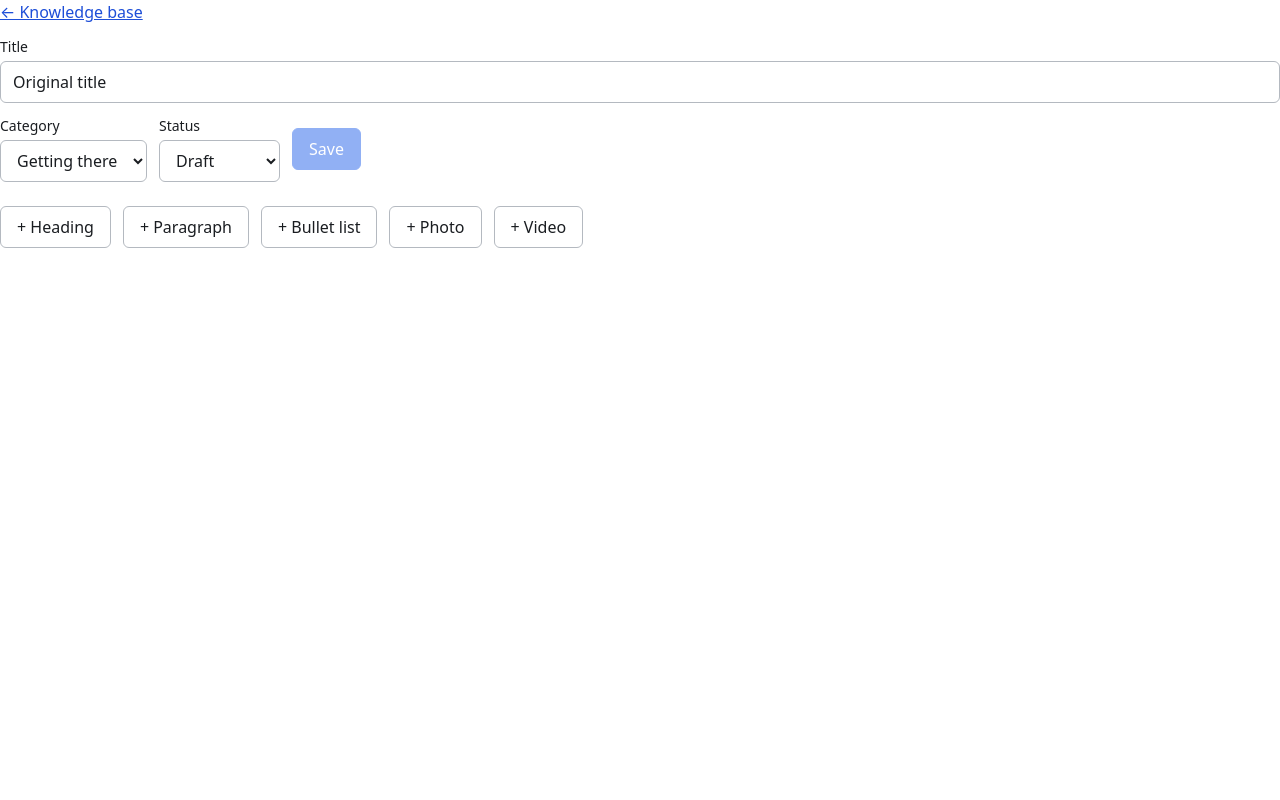
Test: ArticleEditorPage — stale article conflict (409) › Reload discards local edits and refetches the article
Type " (edited)" into the field labelled "Title" at coordinates (640, 82), box [0,61,1279,103]
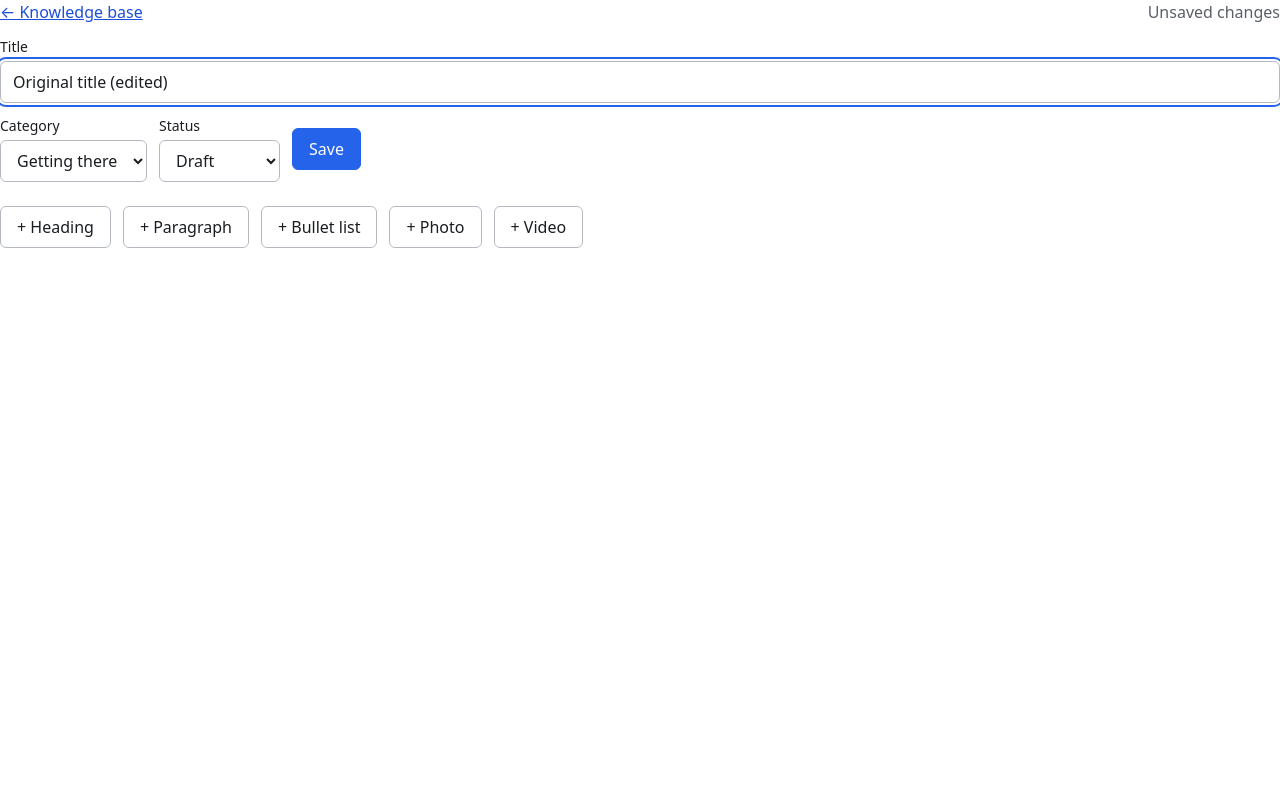
Click the button "Save" at coordinates (326, 148), box [292,128,361,170]
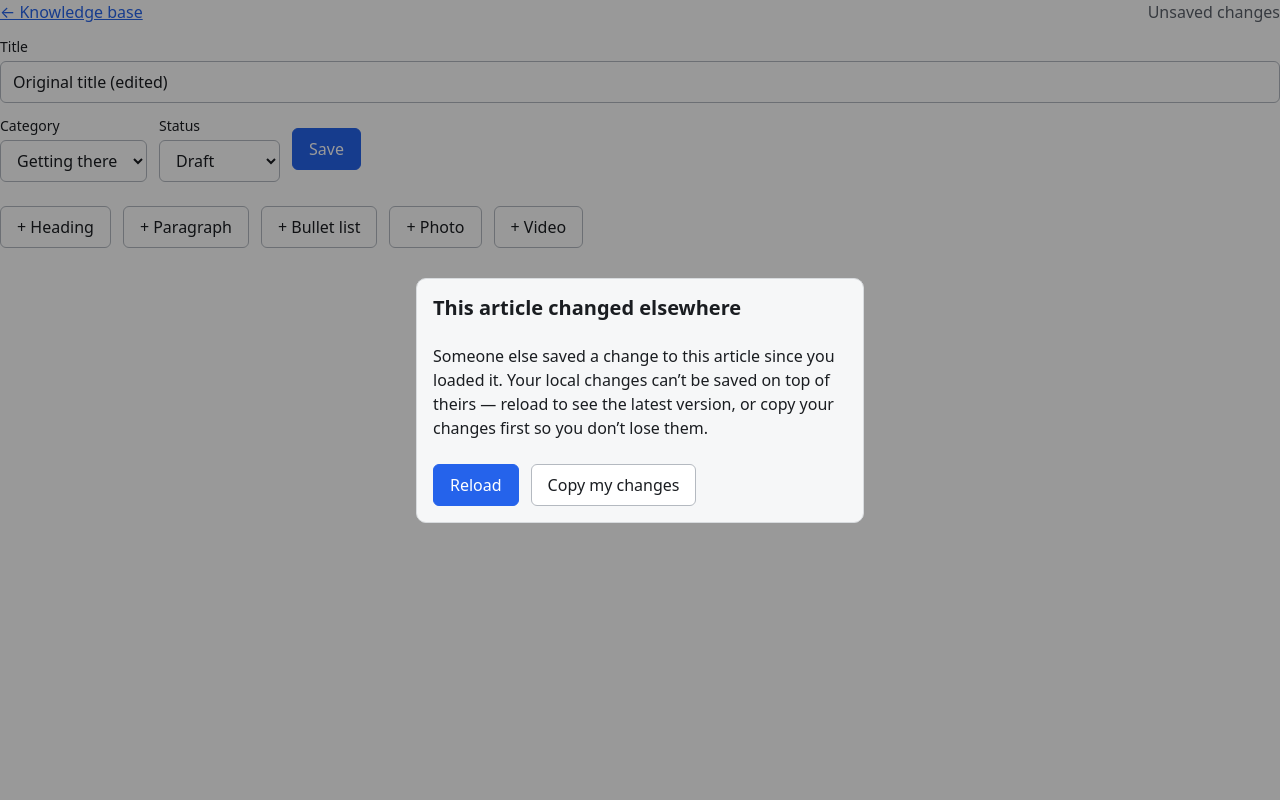
Check: the heading "This article changed elsewhere" is shown, box [433,294,741,320]
Click the button "Reload" at coordinates (476, 484), box [433,464,519,506]
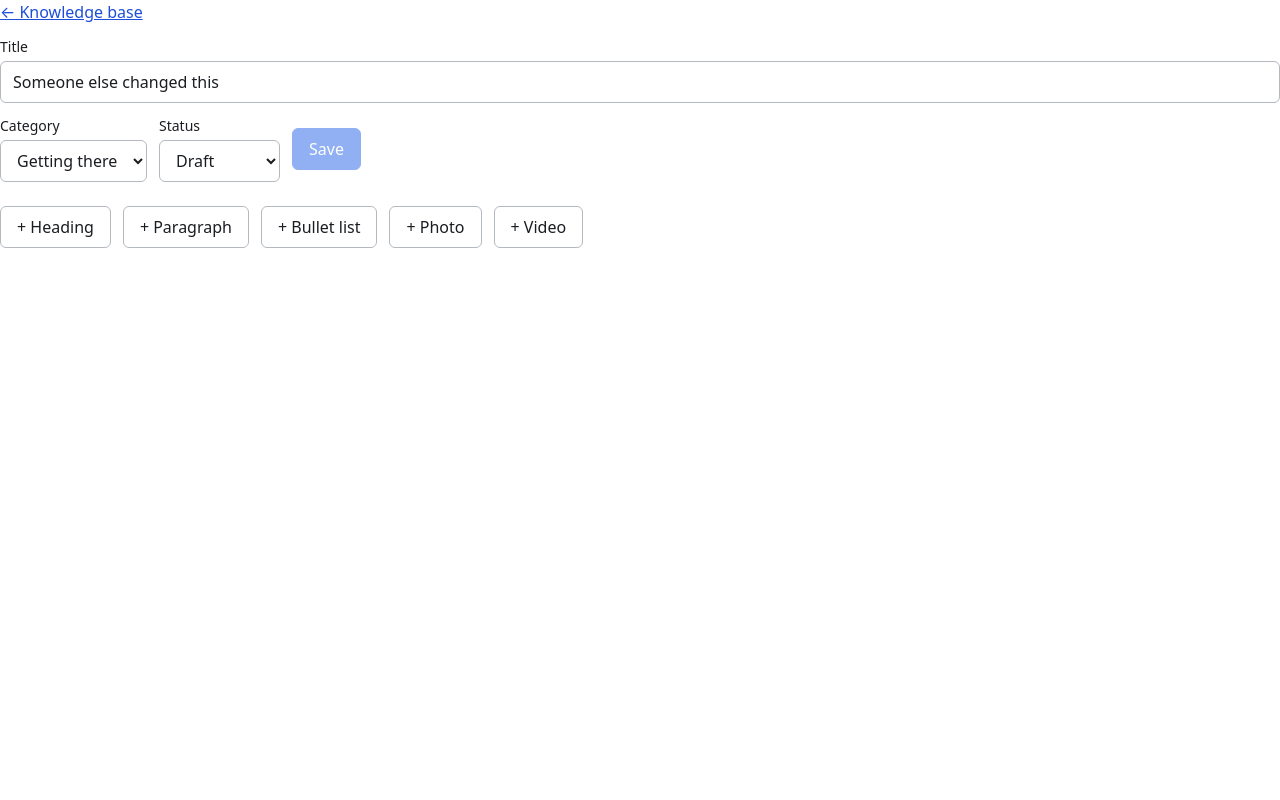
Check: the field labelled "Title" holds "Someone else changed this", box [0,61,1279,103]
